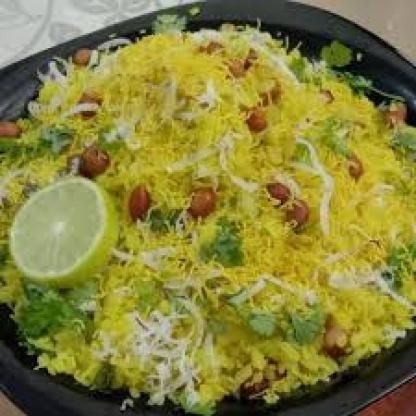poha: (0, 24, 416, 415)
